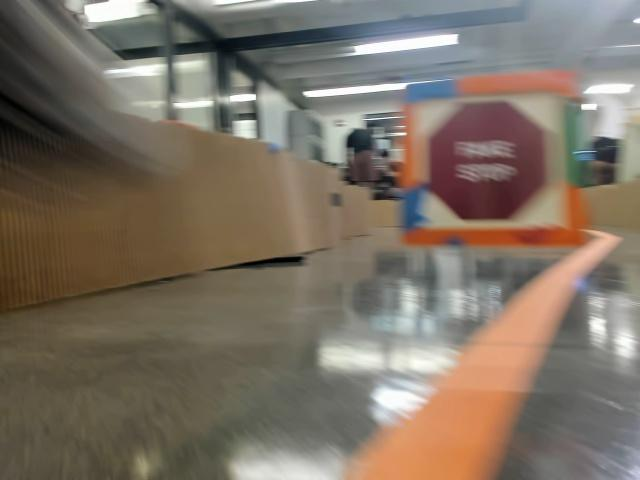Fake Stop: (427, 102, 548, 220)
